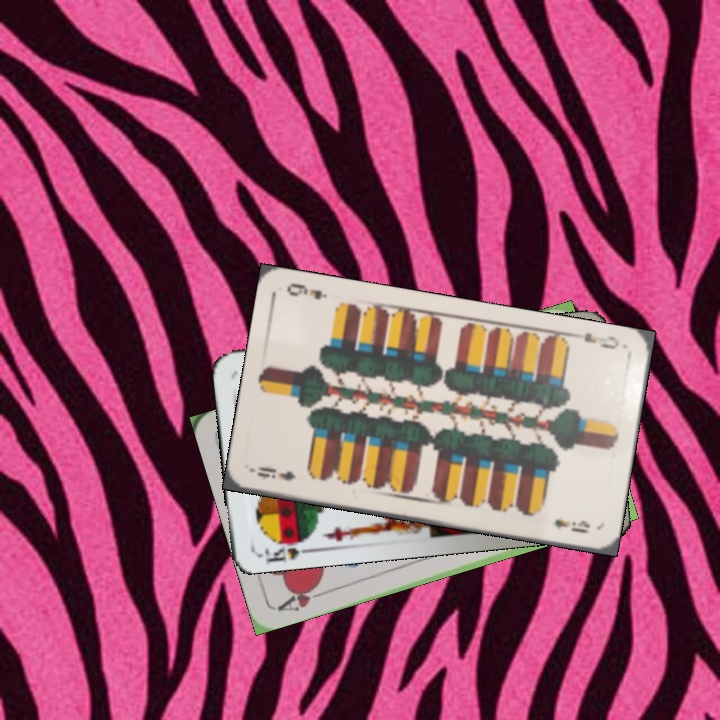E9: (568, 328, 622, 352), (253, 462, 298, 484)
HA: (273, 578, 331, 614)
SK: (260, 532, 315, 564)
